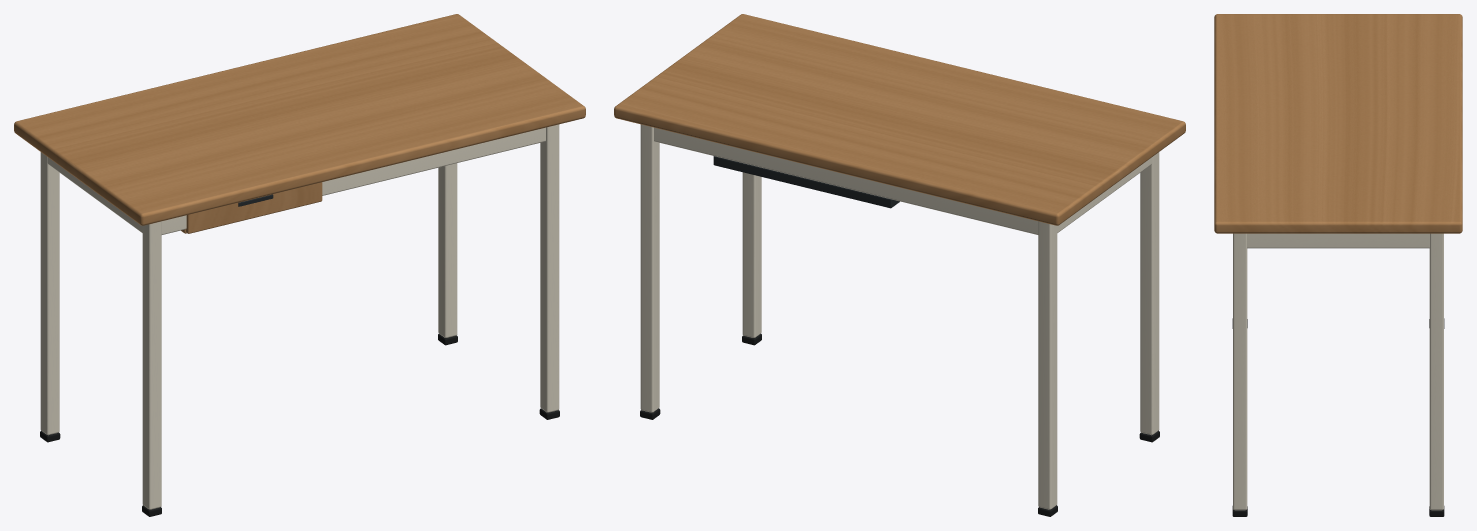
File: desk_01.glb
3 views of the same model, side by side, from view 1: azimuth 30°, elevation 25°; view 2: azimuth 150°, elevation 25°; view 3: azimuth 270°, elevation 25° (orthographic). The views are drawn at different scales.
Visible parts, largest first — view 1: desk_01; view 2: desk_01; view 3: desk_01.
Boxes of the visible parts, x1,y1,x2,y2 form: desk_01: [14, 14, 585, 516]; desk_01: [614, 14, 1185, 516]; desk_01: [1214, 14, 1462, 516].
Bounding box in the file's own units: 1.1 × 0.74 × 0.55.
4 materials, 4 textured.
